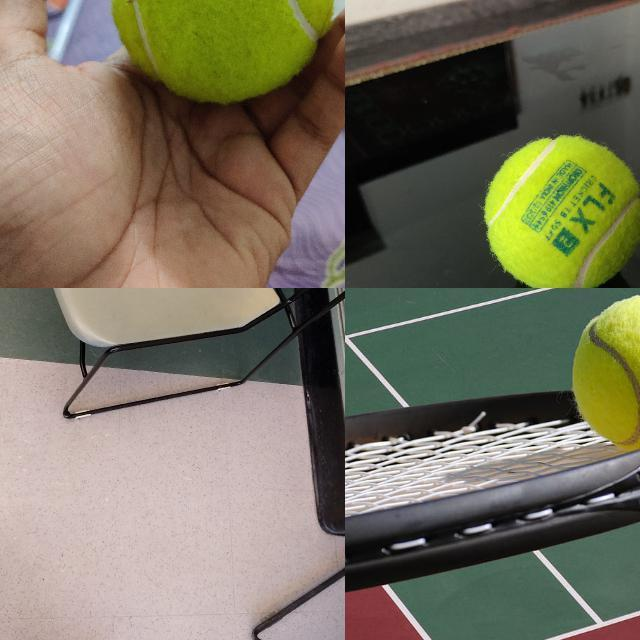tennis-ball: (482, 133, 639, 287), (109, 0, 337, 104), (571, 292, 639, 402)
